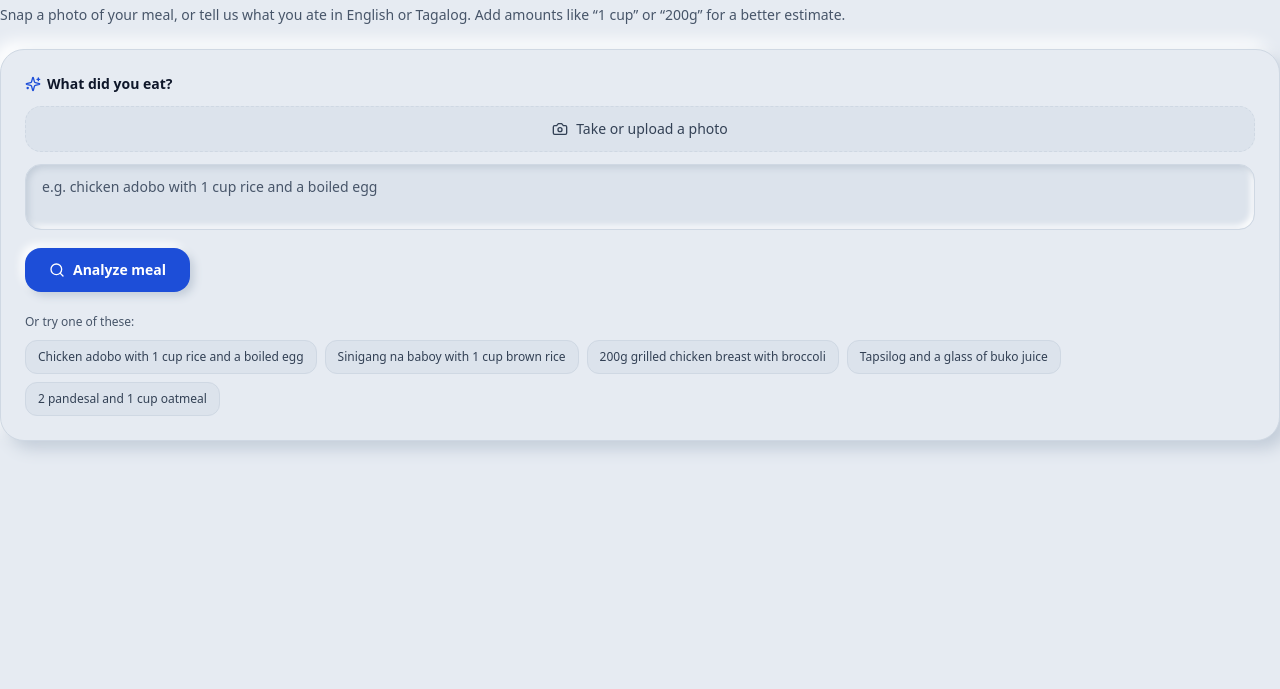
Test: meal scanner confirmation › says when the photo could not be used and the text was analyzed instead
The image size is (1280, 689).
Type "120g chicken adobo" into the text box labelled "What did you eat?" at (640, 197), box [25,164,1255,230]
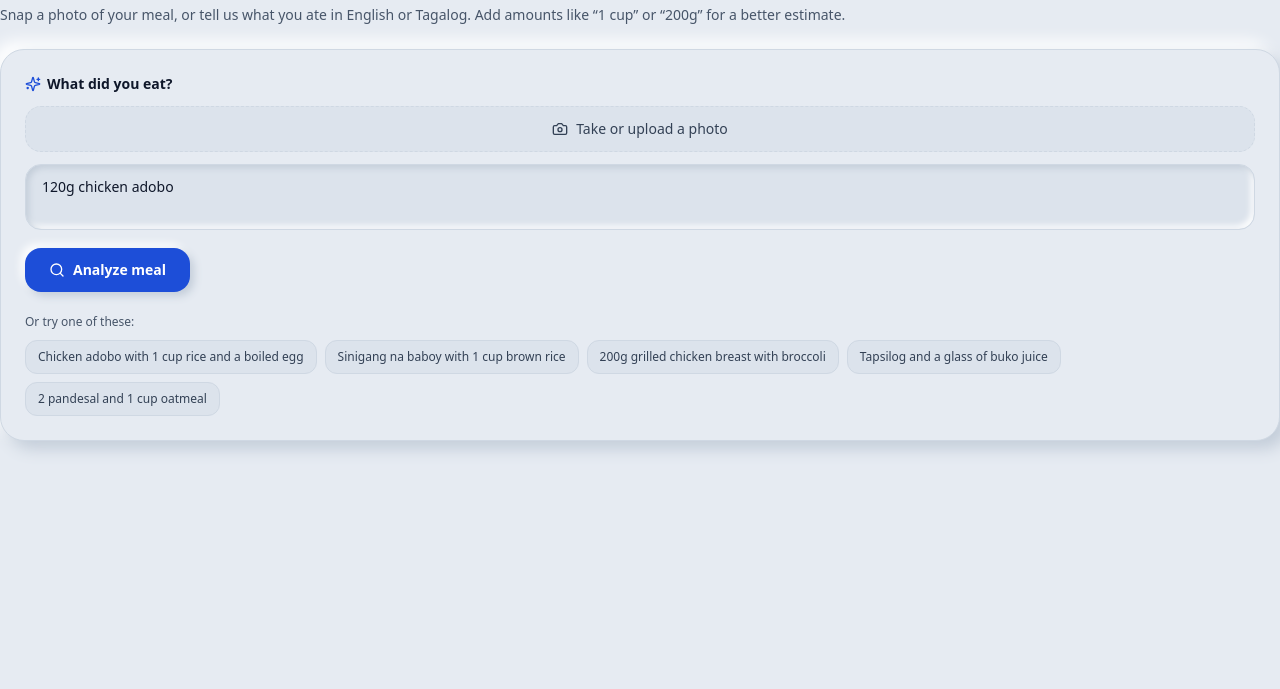
Click the button "Analyze meal" at (108, 270), box [25,248,190,292]
(page scrolled)
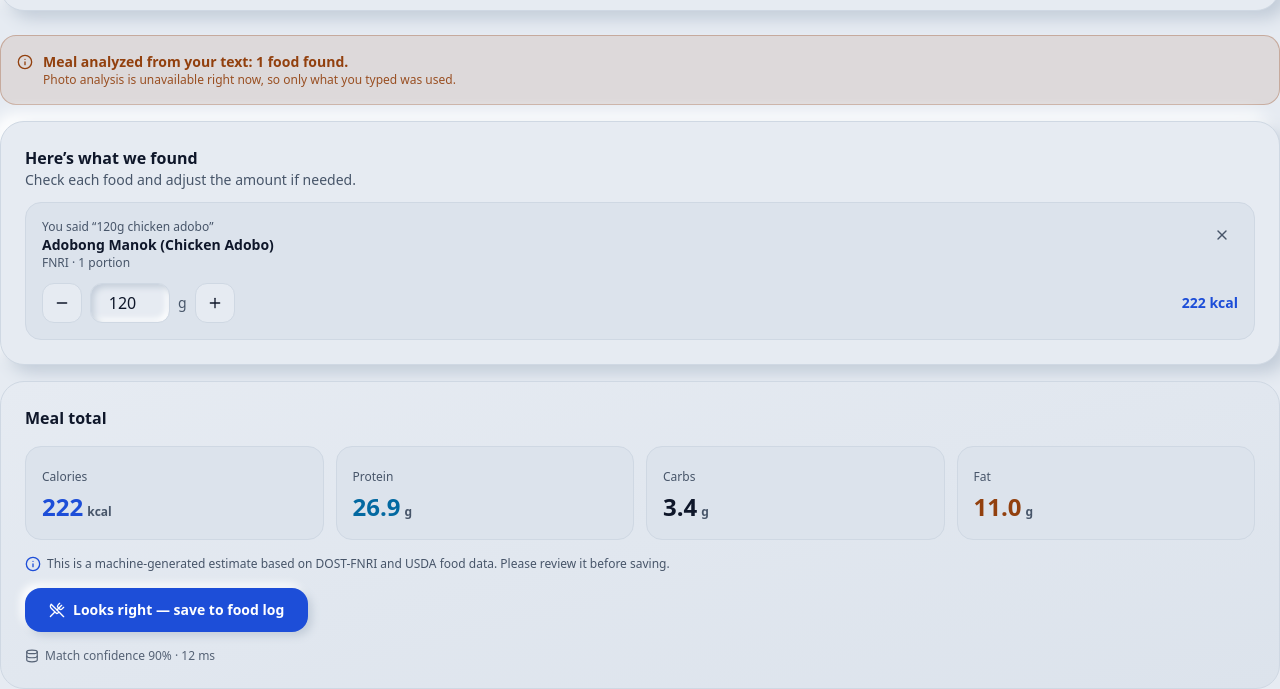
Check: the message shows "from your text", box [43,52,348,71]
Check: the message shows "Photo analysis is unavailable right now", box [43,71,456,88]
